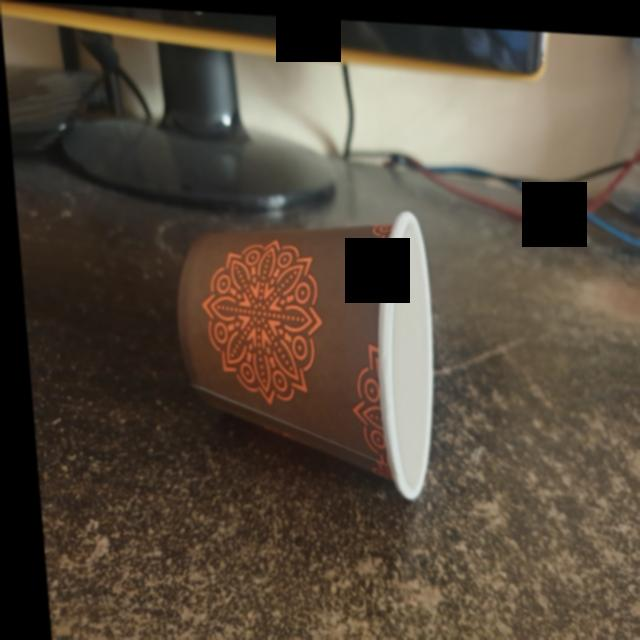cups: (160, 190, 452, 508)
